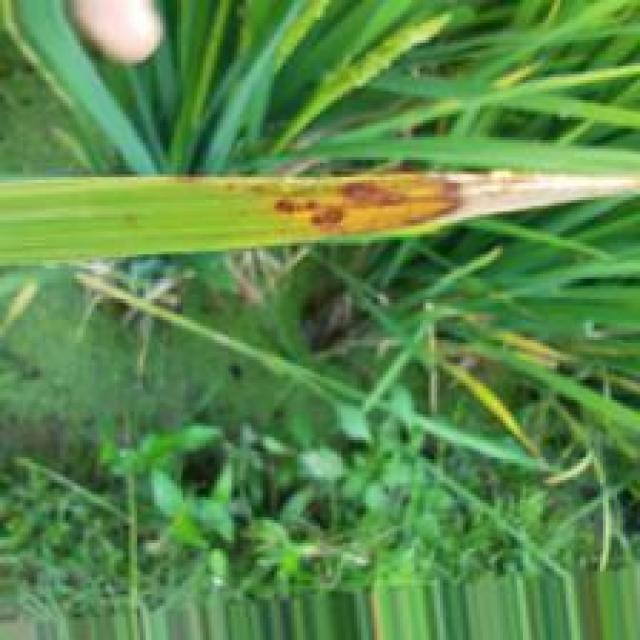Leaf_Scald: (403, 172, 612, 229), (341, 179, 426, 214), (273, 197, 350, 234)
